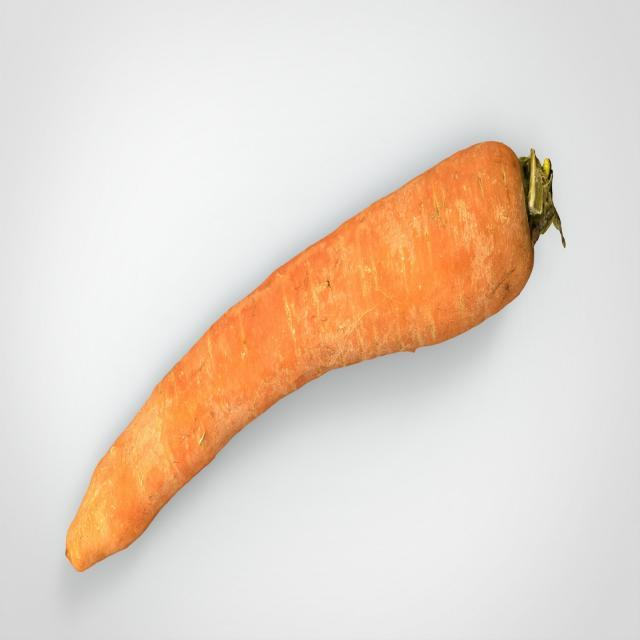Carrot: (65, 138, 568, 567)
